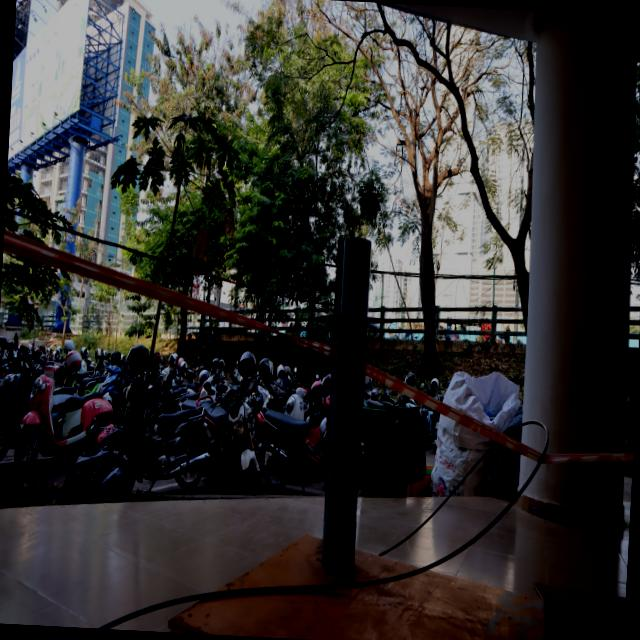pole: (311, 229, 388, 404)
